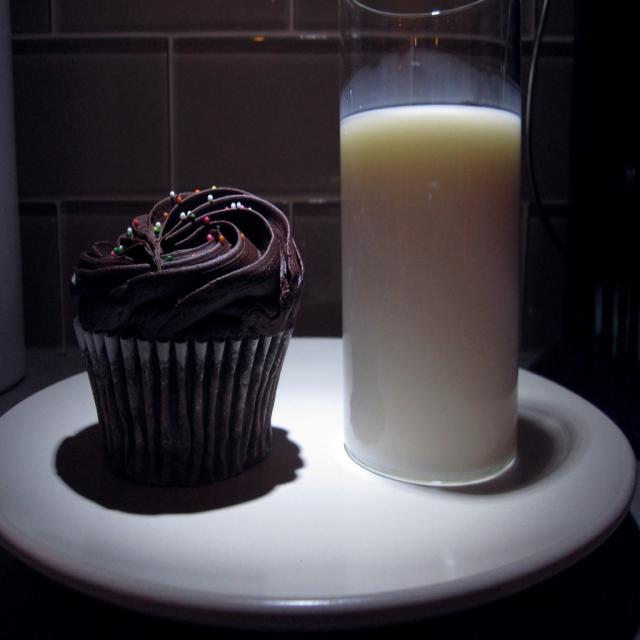Milk: (343, 25, 535, 487)
